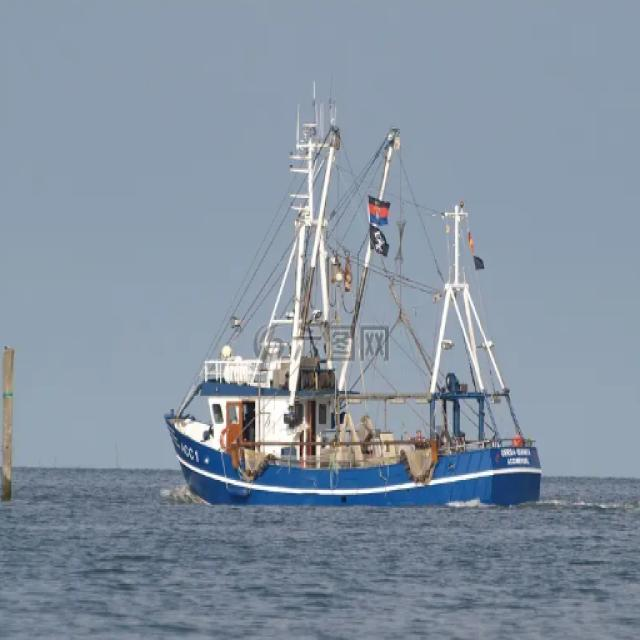fishing boat: (174, 105, 547, 506)
